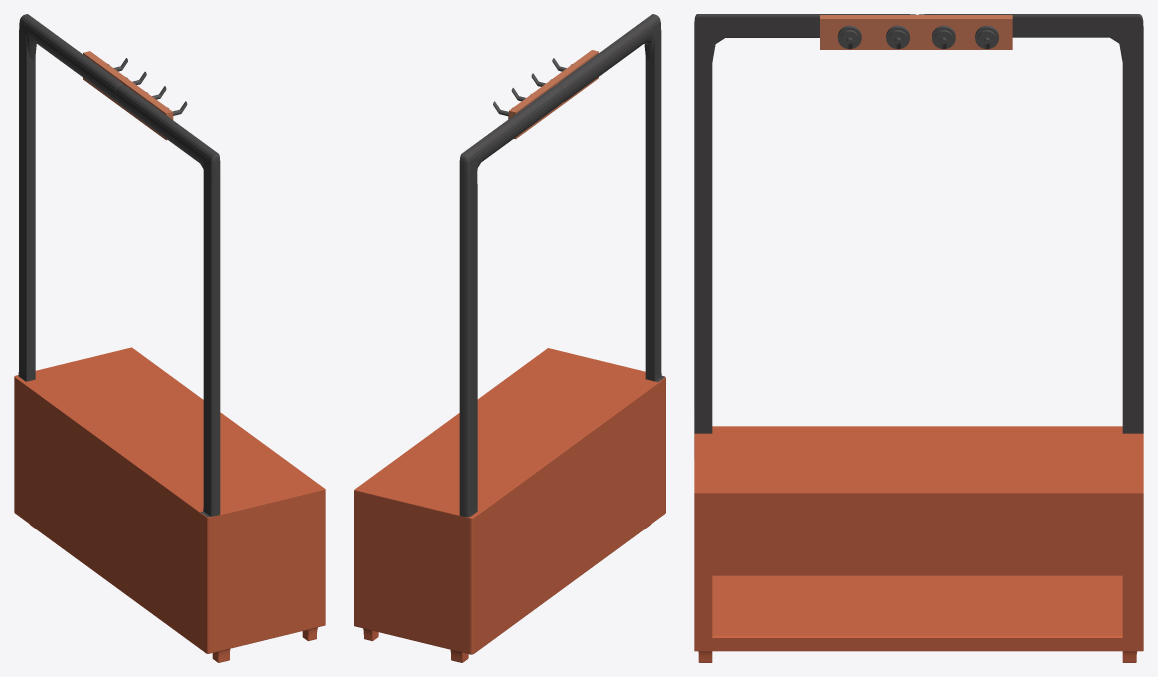
File: Clothhanger.fbx
3 renders of one model, left to right at view 1: azimuth 30°, elevation 25°; view 2: azimuth 150°, elevation 25°; view 3: azimuth 270°, elevation 25°, orthographic. The views are drawn at different scales.
Visible parts, largest first — view 1: Cube, Cube.001; view 2: Cube, Cube.001; view 3: Cube, Cube.001.
Boxes of the visible parts, x1=… form: Cube: x1=14, y1=14, x2=325, y2=662; Cube.001: x1=83, y1=51, x2=173, y2=140; Cube: x1=354, y1=14, x2=665, y2=662; Cube.001: x1=509, y1=50, x2=598, y2=139; Cube: x1=694, y1=14, x2=1143, y2=662; Cube.001: x1=820, y1=15, x2=1012, y2=49.
Size of the model in its own units: 164 by 678 by 467.
